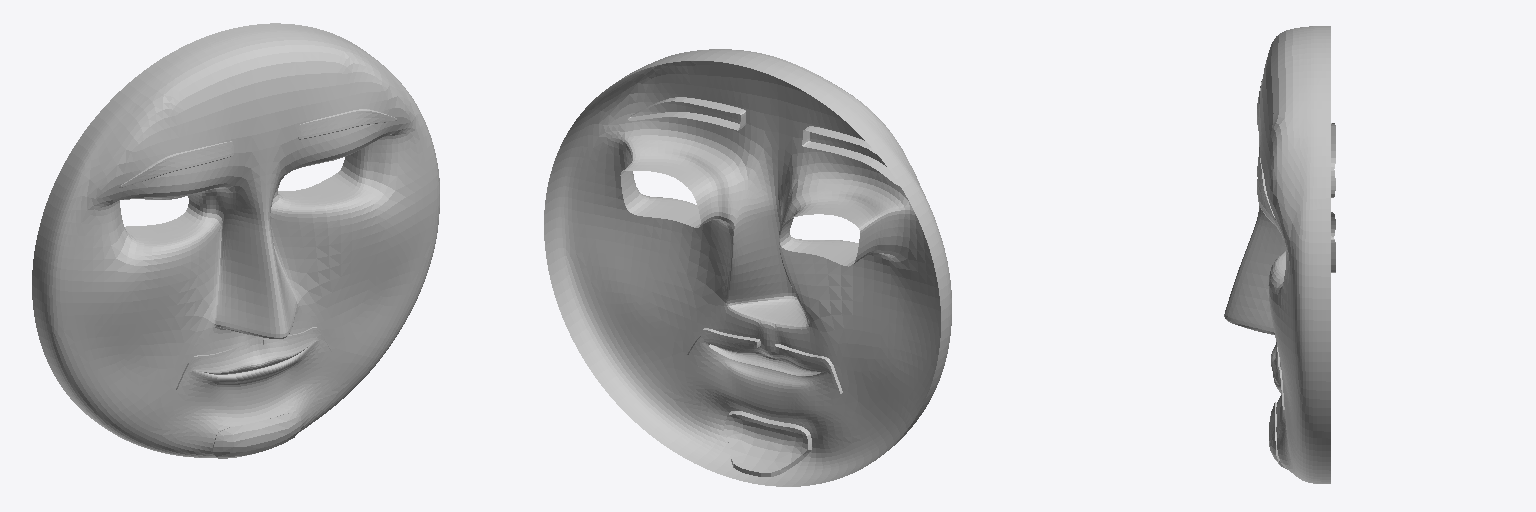
Rendered from Smile.obj.
3 views of the same model, side by side, from view 1: azimuth 30°, elevation 25°; view 2: azimuth 150°, elevation 25°; view 3: azimuth 270°, elevation 25° (orthographic).
Parts seen in each view (by area): view 1: Circle.082_Circle.100; view 2: Circle.082_Circle.100; view 3: Circle.082_Circle.100.
Part boxes in pixels (x1,y1,x2,y2): Circle.082_Circle.100: (32,23,439,458); Circle.082_Circle.100: (544,49,951,486); Circle.082_Circle.100: (1224,26,1335,483).
Size of the model in its own units: 50.64 by 50.76 by 12.29.